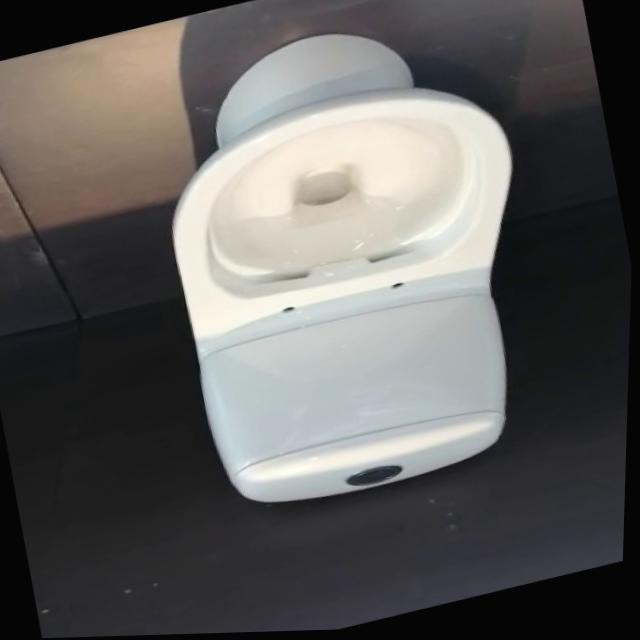toilet: (130, 0, 578, 528)
